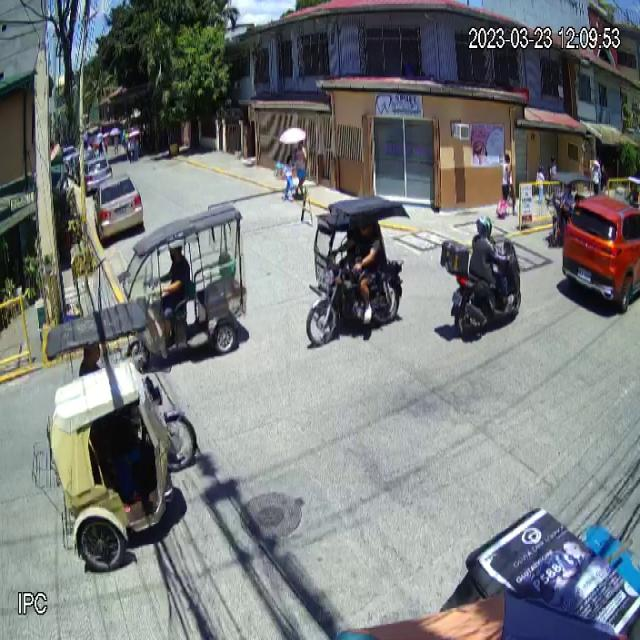Motorcycle: (439, 235, 522, 339)
Tricycle: (33, 297, 198, 573), (304, 200, 411, 348)
